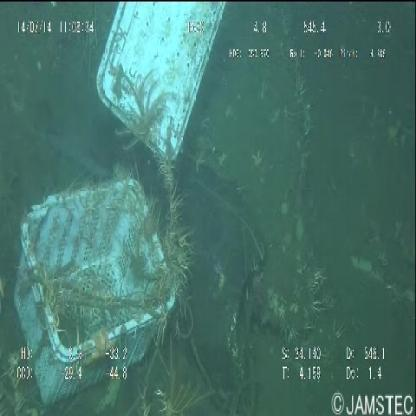Rác: (12, 1, 231, 410)
